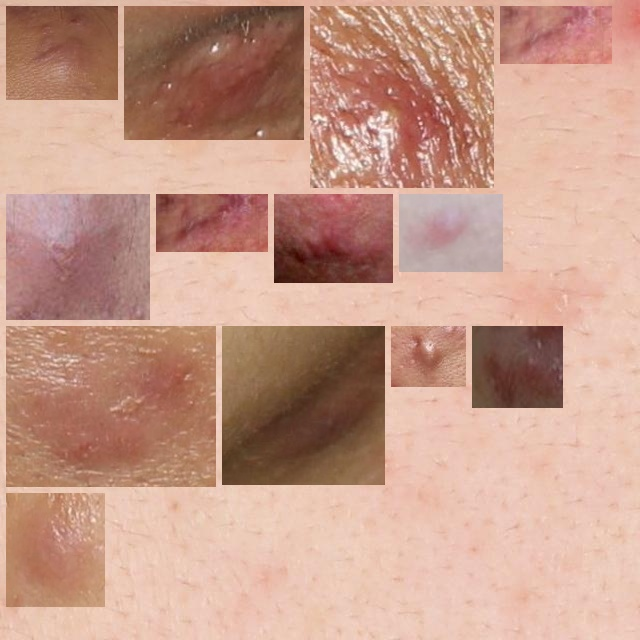nodule: (318, 14, 486, 188), (14, 334, 208, 479), (230, 334, 377, 477), (132, 14, 296, 132), (14, 202, 142, 312), (14, 501, 97, 599), (282, 202, 385, 275), (14, 14, 110, 92), (407, 202, 495, 264), (480, 334, 555, 400), (508, 14, 604, 63), (164, 202, 260, 251), (399, 334, 458, 379)
